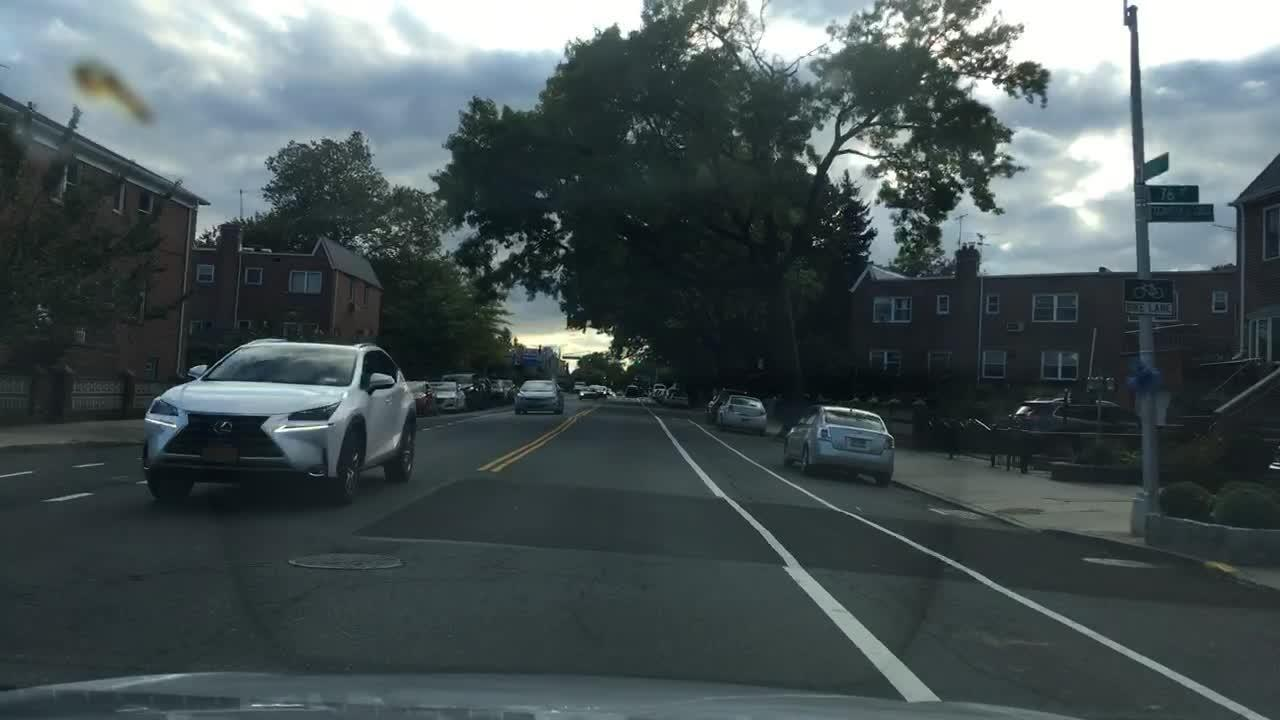lexus: (210, 417, 238, 439)
